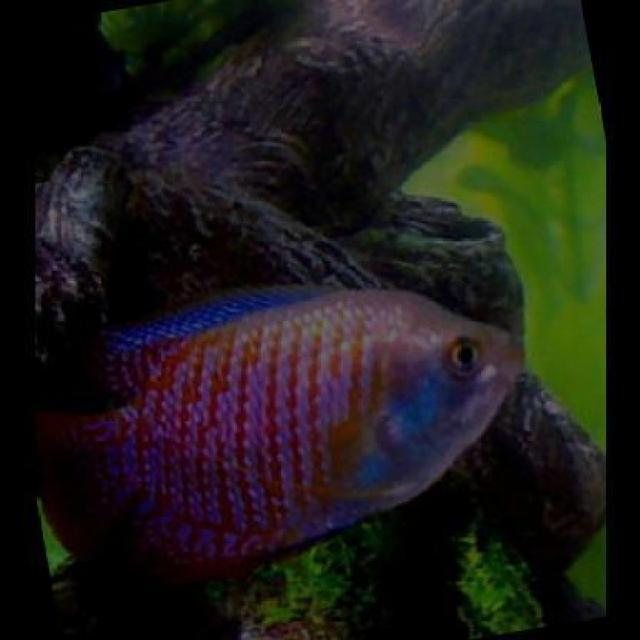Gourami: (69, 276, 522, 558)
